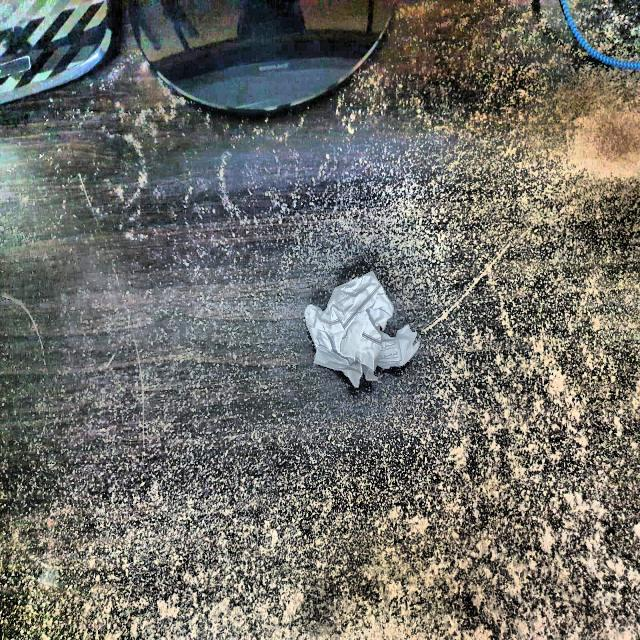Paper: (298, 260, 426, 401)
